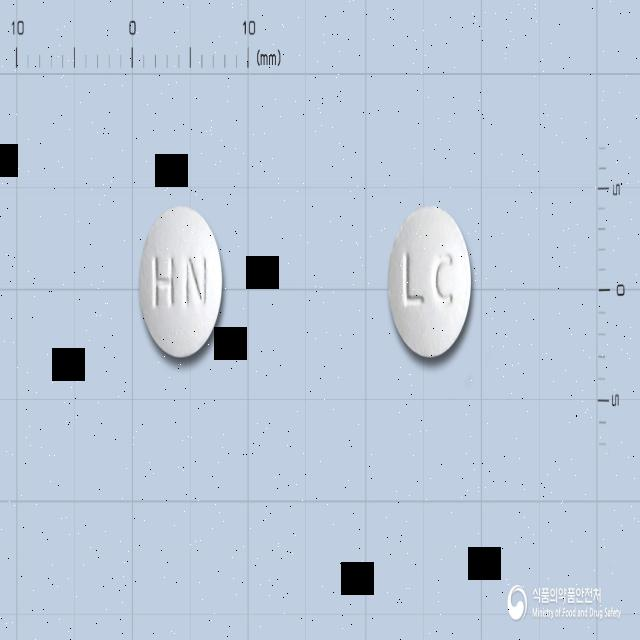Lenacin: (388, 204, 473, 358), (139, 204, 223, 358)
